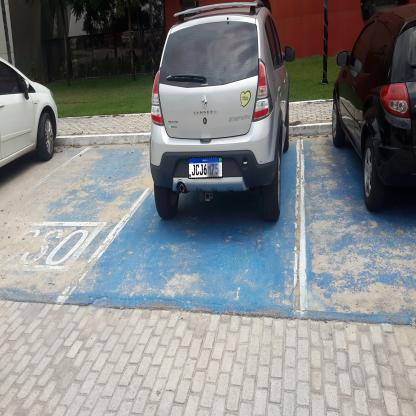PlacaM: (188, 156, 223, 179)
